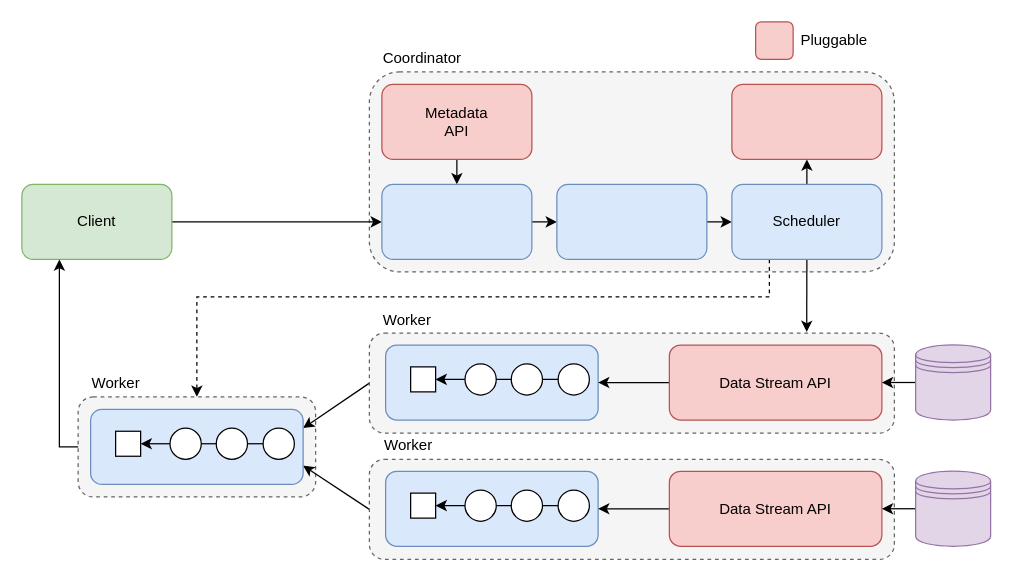
This 1013x581 diagram has some shape labels left out. Here are the shapes that lost their labels. From the top down, the centre of each, then its label:
point 806,121: Data Location API
point 456,221: Parser/ analyzer
point 631,221: Planner
